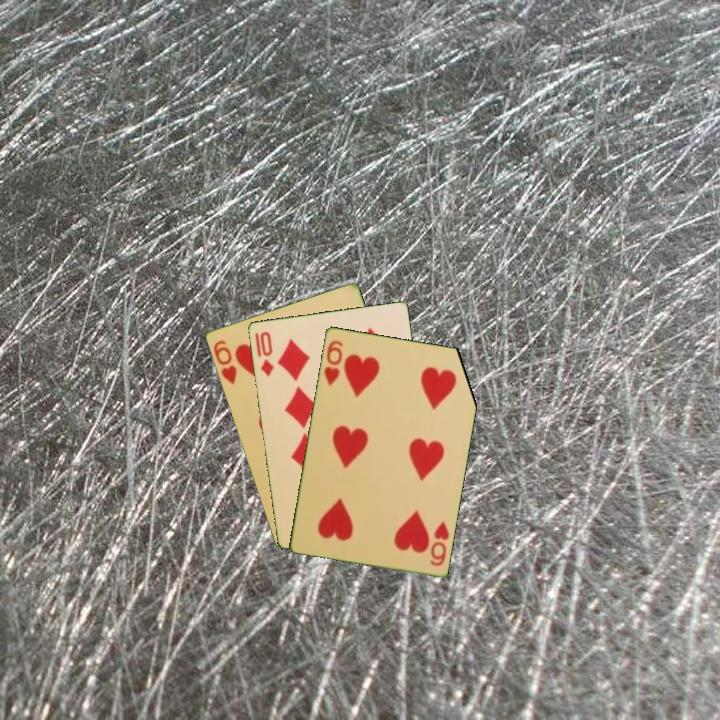10d: (251, 328, 276, 379)
6h: (210, 336, 239, 387), (426, 517, 452, 569), (320, 337, 345, 388)
